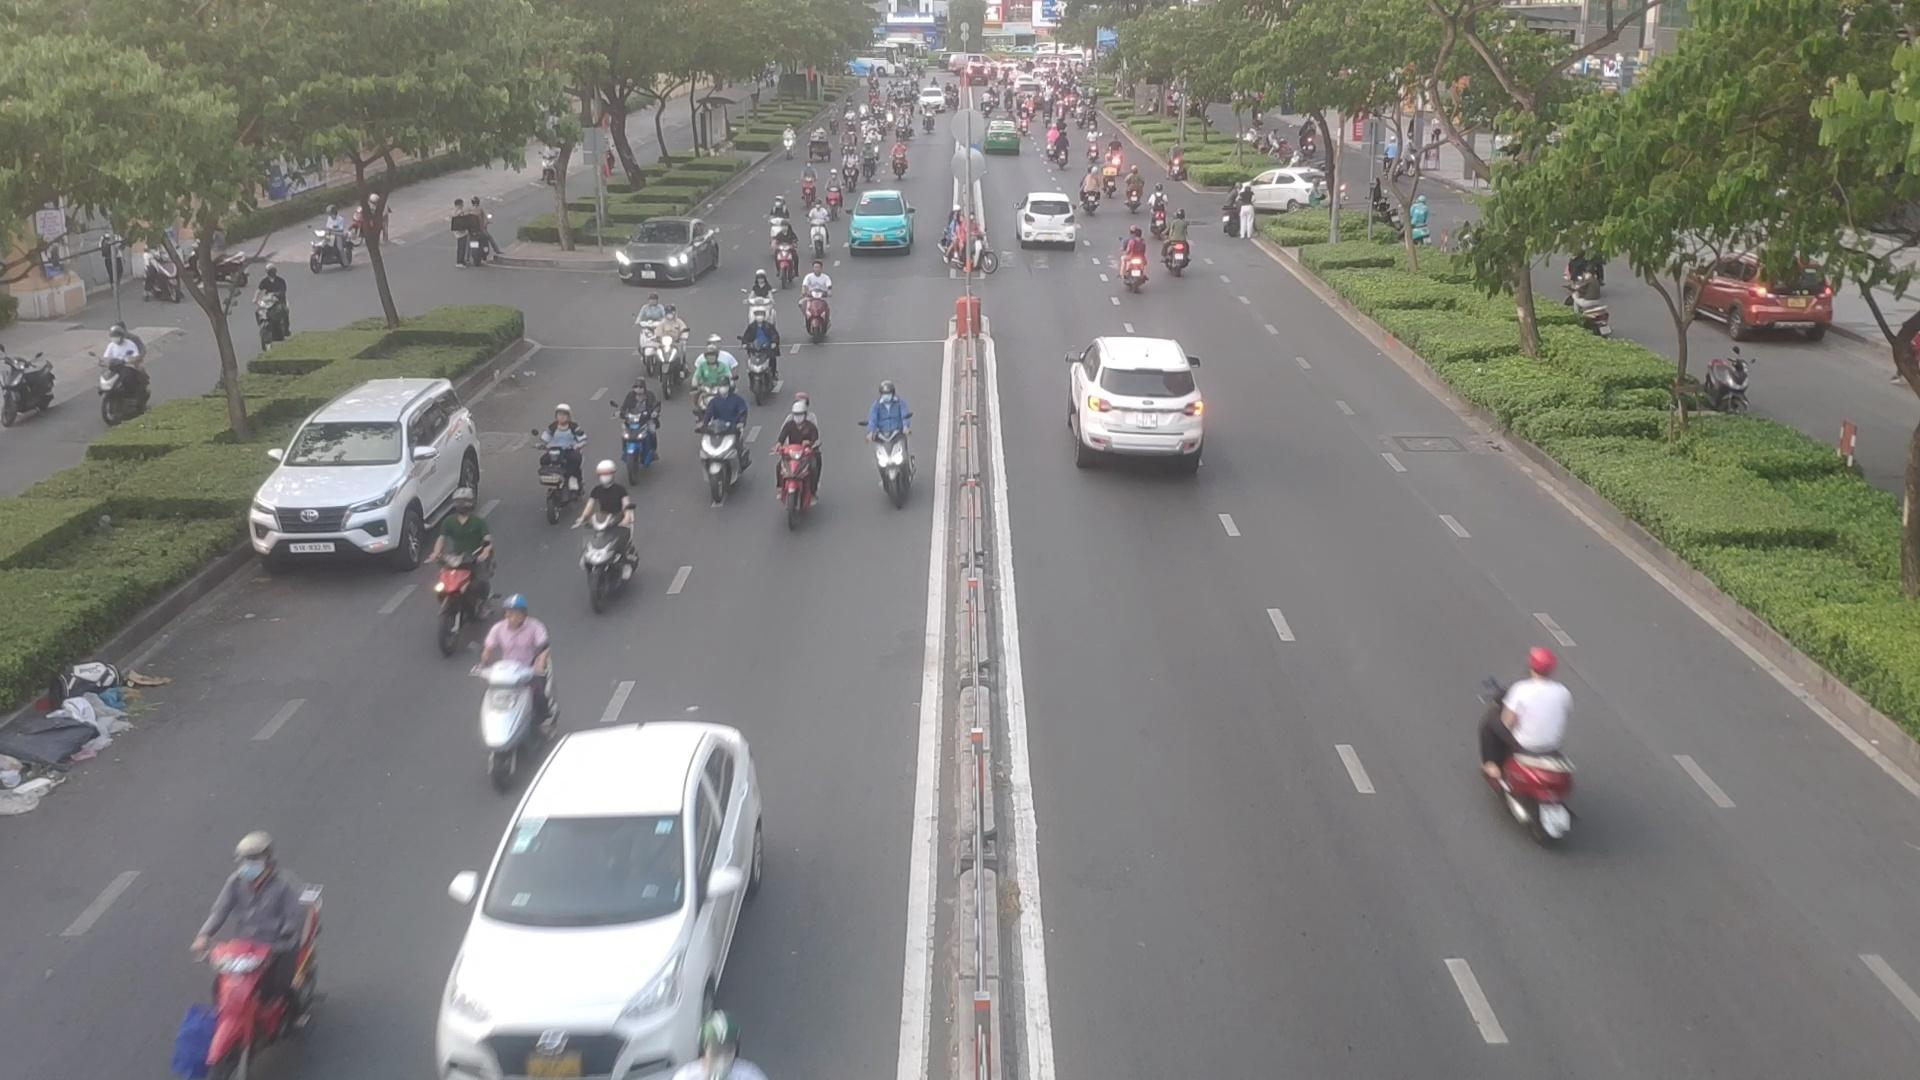car: (431, 724, 764, 1075), (252, 378, 489, 575), (1069, 336, 1207, 462), (618, 219, 727, 289), (1222, 170, 1328, 216), (845, 191, 910, 258), (1015, 191, 1084, 248)
motorbike: (174, 831, 331, 1065), (1428, 638, 1606, 828), (485, 608, 558, 771), (533, 405, 608, 545), (858, 381, 924, 524), (771, 392, 831, 538), (436, 504, 487, 657), (584, 459, 625, 605), (609, 357, 657, 469), (703, 388, 748, 505), (736, 306, 789, 404), (633, 291, 680, 382), (737, 272, 786, 352), (804, 262, 843, 360), (952, 220, 1000, 287), (698, 348, 738, 425), (662, 307, 690, 400), (1118, 228, 1149, 306), (1149, 183, 1176, 247), (1167, 220, 1189, 284), (766, 196, 794, 247), (808, 208, 831, 266), (773, 224, 795, 277), (825, 169, 841, 225), (800, 160, 815, 190)
